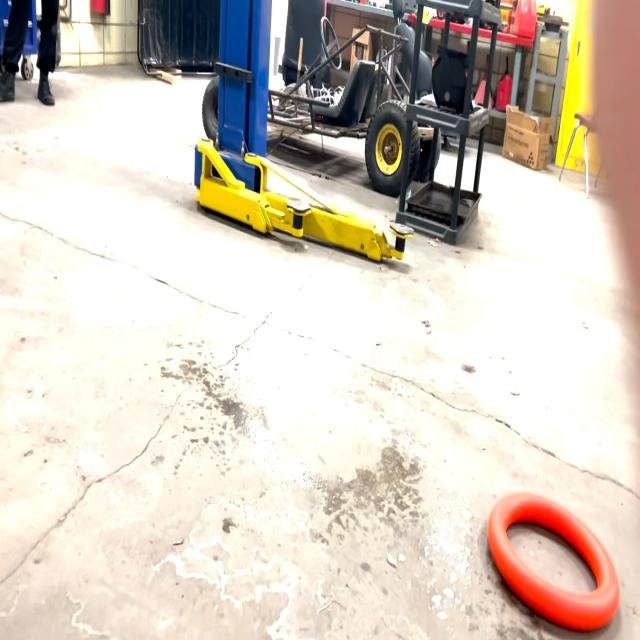note: (488, 485, 620, 633)
